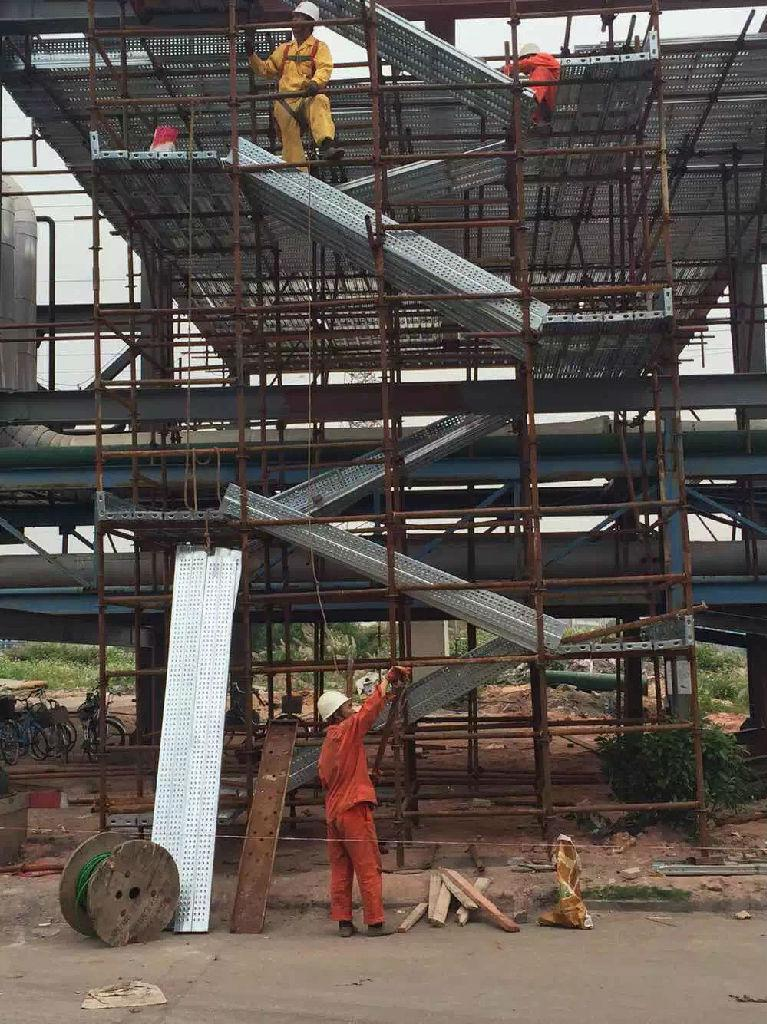helmet: (318, 692, 350, 722), (293, 1, 319, 21), (519, 43, 541, 58)
person: (315, 665, 415, 938), (244, 1, 349, 173), (497, 42, 562, 129)
